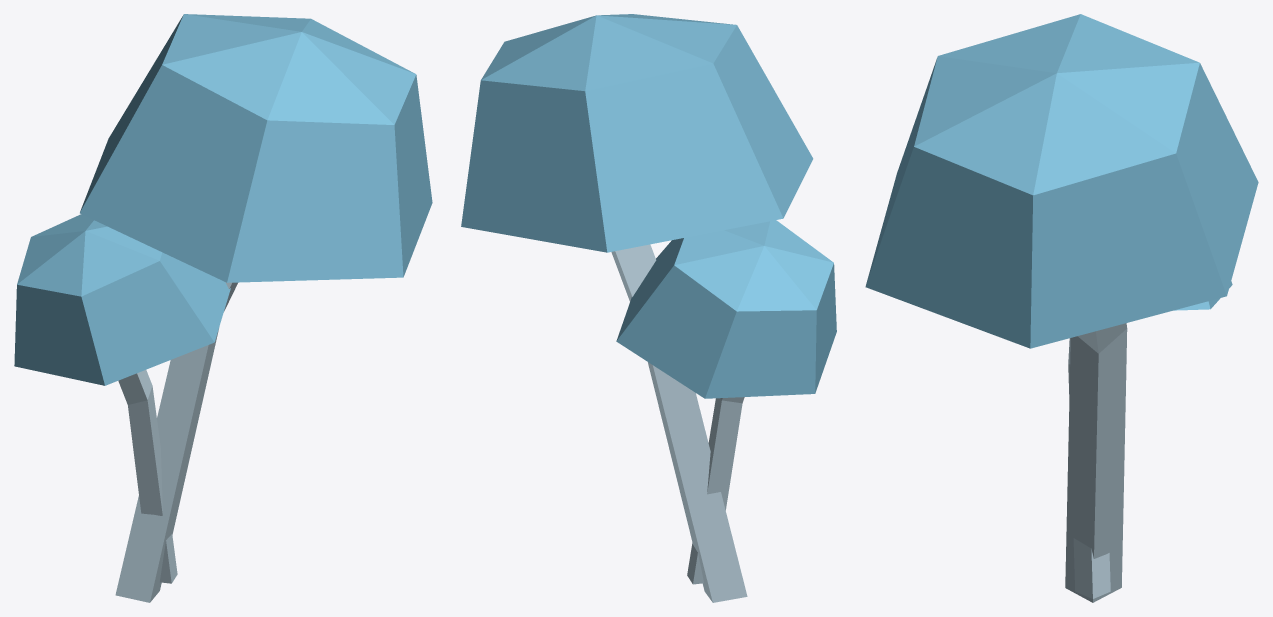
Rendered from Mushroom_a_06.fbx.
3 views of the same model, side by side, from view 1: azimuth 30°, elevation 25°; view 2: azimuth 150°, elevation 25°; view 3: azimuth 270°, elevation 25° (orthographic). The views are drawn at different scales.
Parts seen in each view (by area): view 1: Mushroom_a_06; view 2: Mushroom_a_06; view 3: Mushroom_a_06.
Boxes of the visible parts, <box> form: Mushroom_a_06: <box>14,14,432,602</box>; Mushroom_a_06: <box>461,14,836,602</box>; Mushroom_a_06: <box>865,14,1258,602</box>.
Bounding box in the file's own units: 0.2321 × 0.3212 × 0.1915.
